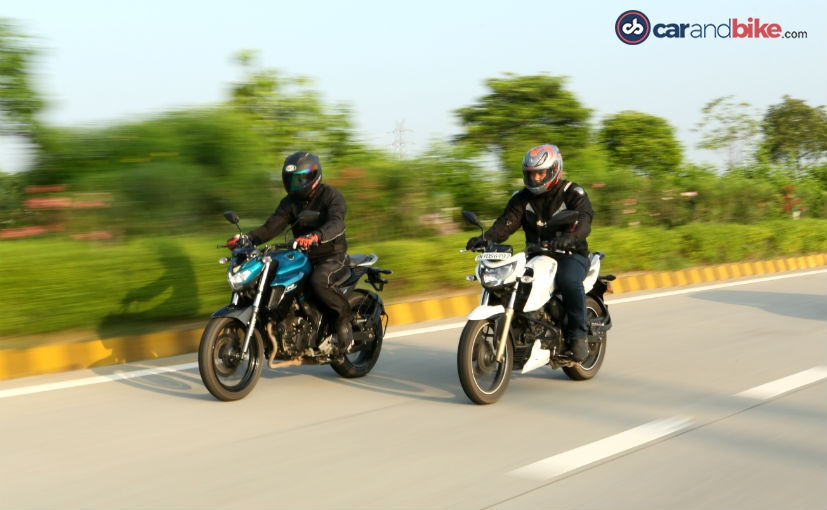helmet: (517, 144, 566, 193), (278, 149, 327, 198)
